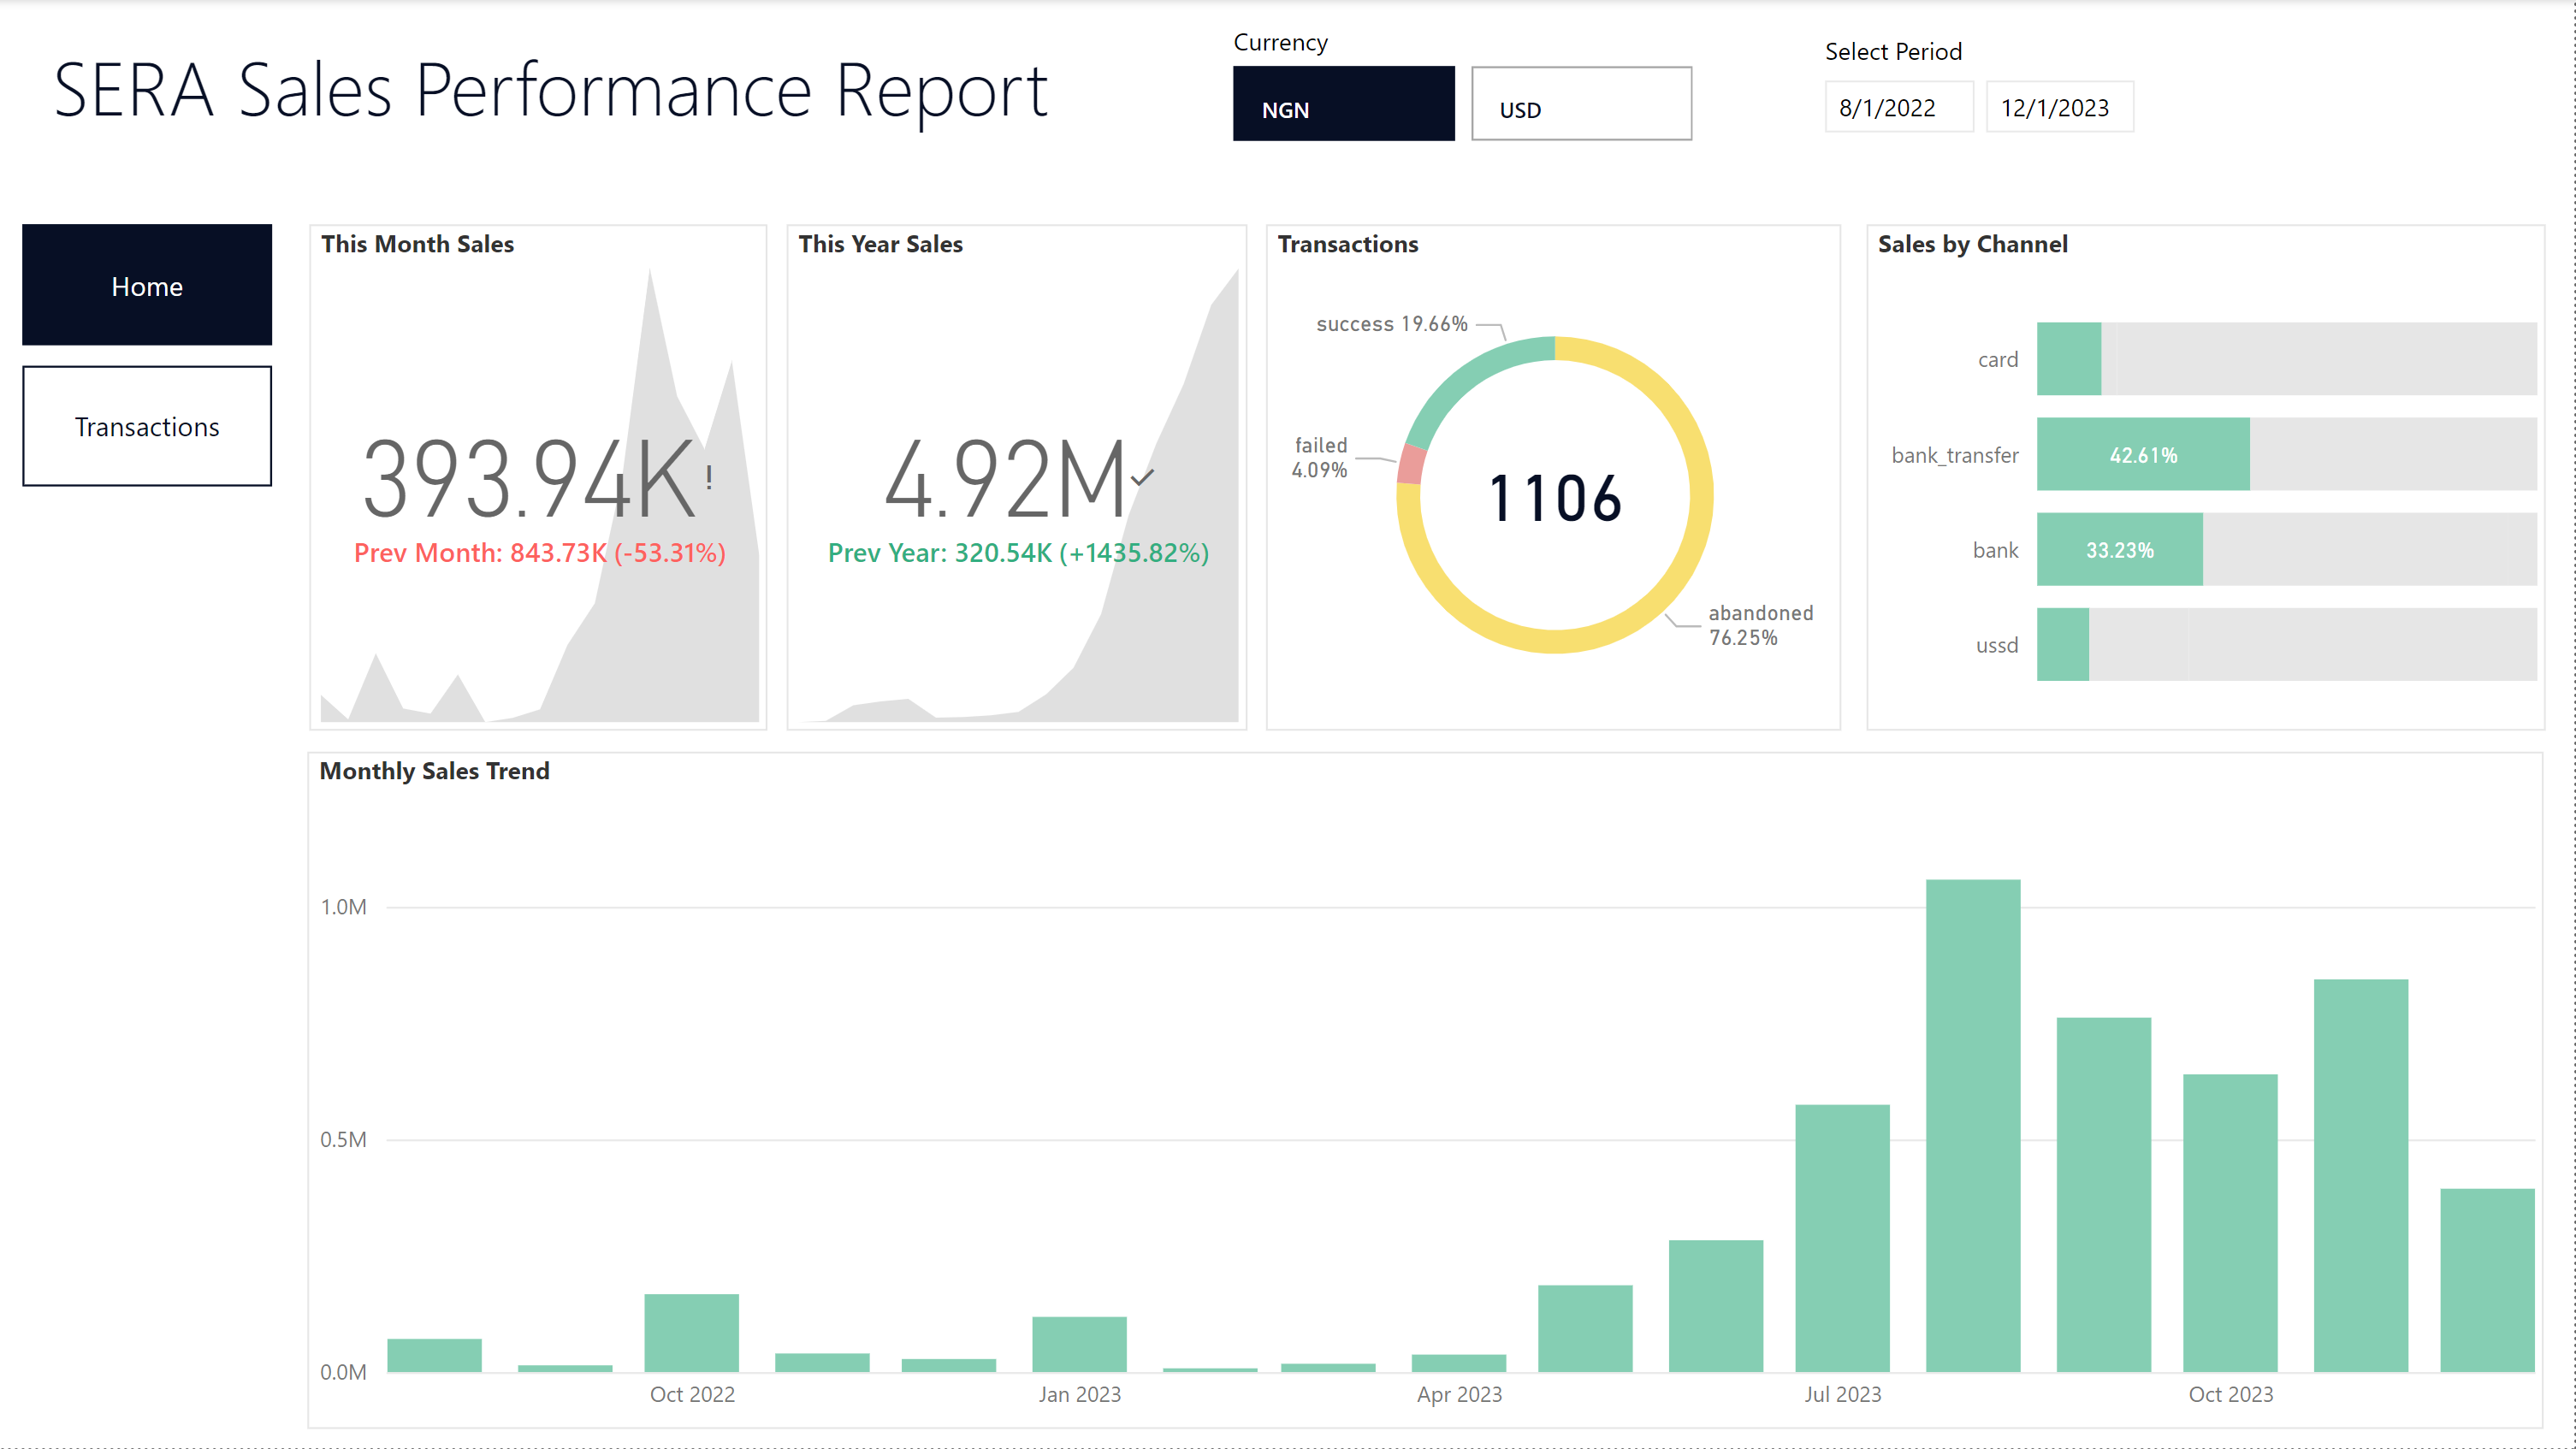

The dashboard page shown, as its layout file describes it:
{"tool":"powerbi","page":{"name":"Home","canvas":[1280,720],"ordinal":0},"visuals":[{"type":"textbox","box":[21.7,12.4,548.6,66.2],"z":0},{"type":"advancedSlicerVisual","title":"Currency","fields":{"Values":["sera sales.currency"]},"box":[608.6,12.9,239.8,63.4],"z":1000,"group":"g1"},{"type":"kpi","title":"This Month Sales","fields":{"Indicator":["_measures.CM sales"],"Goal":["_measures.PM sales"],"TrendLine":["date table.MonthYear"]},"box":[154.7,111.7,227.7,251.5],"z":1000},{"type":"kpi","title":"This Year Sales","fields":{"Goal":["_measures.PY sales"],"Indicator":["_measures.CY sales"],"TrendLine":["date table.MonthYear"]},"box":[391.7,111.7,228.7,251.5],"z":2000},{"type":"donutChart","title":"Transactions","fields":{"Y":["Sum(sera sales.amount)"],"Series":["sera sales.status"]},"box":[629.8,111.7,285.7,251.5],"z":3000},{"type":"hundredPercentStackedBarChart","title":"Sales by Channel","fields":{"Category":["sera sales.channel"],"Series":["sera sales.status"],"Y":["Sum(sera sales.amount)"]},"box":[927.9,111.7,337.4,251.5],"z":4000},{"type":"clusteredColumnChart","title":"Monthly Sales Trend","fields":{"Category":["date table.MonthYear"],"Y":["_measures.sales"]},"box":[154.2,373.7,1110.6,336.4],"z":5000},{"type":"slicer","fields":{"Values":["date table.MonthYear"]},"box":[894.4,12.4,274.8,62.4],"z":6000,"group":"g1"},{"type":"group","id":"g1","title":"Group 1","box":[608.6,12.4,560,63.1],"z":6000},{"type":"card","fields":{"Values":["_measures.total transactions"]},"box":[721.4,217.4,102.5,56.9],"z":7000},{"type":"pageNavigator","box":[12.4,111.8,124.2,130.4],"z":8000}]}

Visuals, with their boxes in screenshot pixels (x1, y1, x2, y2), scaled from the page's 1280x720 canvas onto the 2576x1449 screenshot:
textbox: 44, 25, 1148, 158
"Currency" advancedSlicerVisual: 1225, 26, 1708, 154
"This Month Sales" kpi: 311, 225, 770, 731
"This Year Sales" kpi: 788, 225, 1248, 731
"Transactions" donutChart: 1268, 225, 1843, 731
"Sales by Channel" hundredPercentStackedBarChart: 1868, 225, 2546, 731
"Monthly Sales Trend" clusteredColumnChart: 311, 752, 2545, 1429
slicer - date table.MonthYear: 1800, 25, 2353, 151
"Group 1" group: 1225, 25, 2352, 152
card - _measures.total transactions: 1452, 437, 1658, 552
pageNavigator: 25, 225, 275, 488
